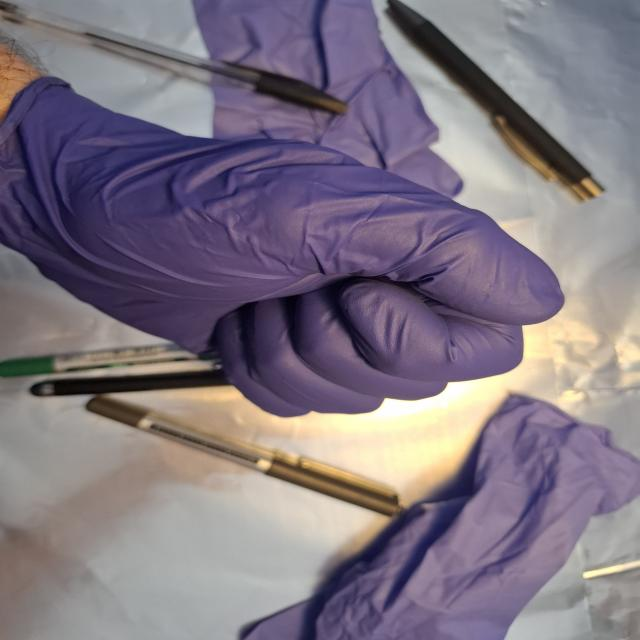glove_on: (2, 78, 567, 420)
